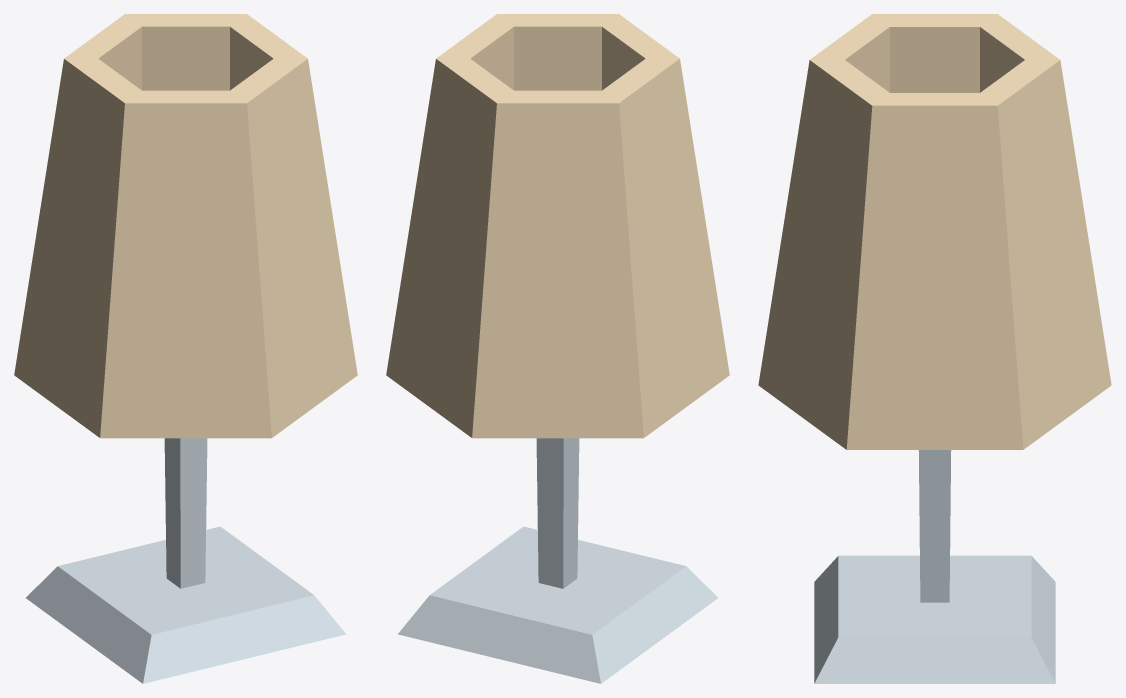
File: lampRoundTable.glb
3 renders of one model, left to right at view 1: azimuth 30°, elevation 25°; view 2: azimuth 150°, elevation 25°; view 3: azimuth 270°, elevation 25°, orthographic. The views are drawn at different scales.
Visible parts, largest first — view 1: lampRoundTable(Clone); view 2: lampRoundTable(Clone); view 3: lampRoundTable(Clone).
Boxes of the visible parts, x1,y1,x2,y2 form: lampRoundTable(Clone): [14, 14, 357, 683]; lampRoundTable(Clone): [386, 14, 729, 683]; lampRoundTable(Clone): [758, 14, 1111, 683].
Size of the model in its own units: 0.152 by 0.3142 by 0.1756.
